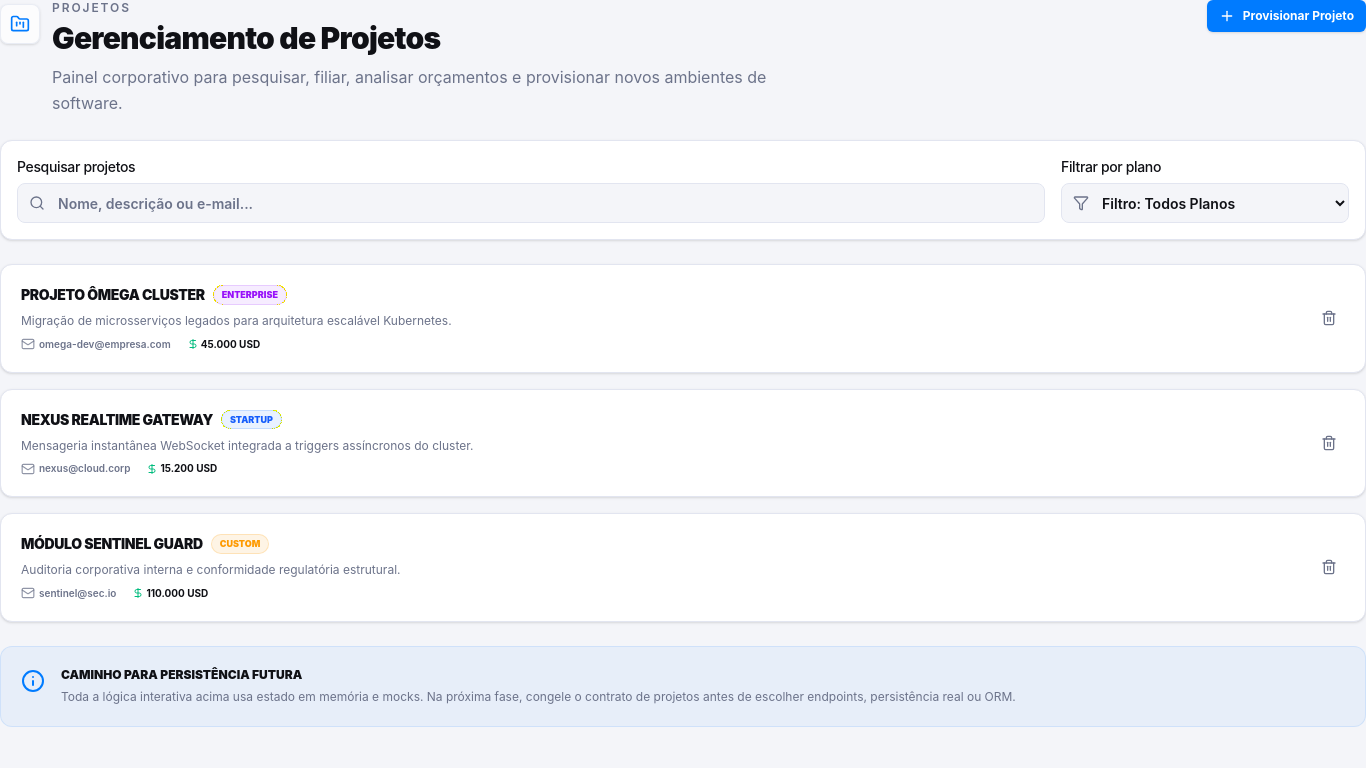
it: FormShowcase project form › creates a valid project through the mock store
Click the button "Provisionar Projeto" at (1286, 16), box [1207, 0, 1365, 32]
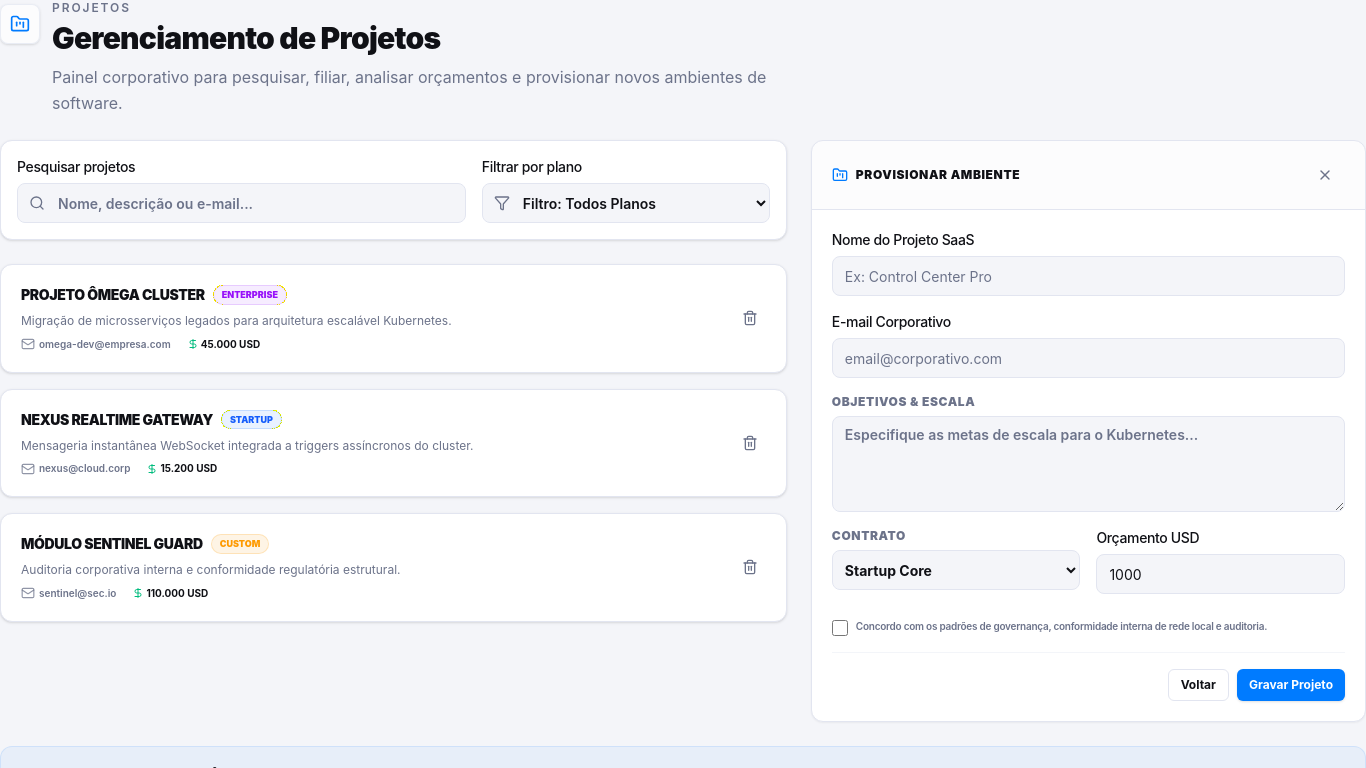
Type "Central de Métricas" into the field labelled "Nome do Projeto SaaS" at (1088, 276), box [832, 256, 1345, 296]
Type "metricas@starterkit.io" into the field labelled "E-mail Corporativo" at (1088, 358), box [832, 338, 1345, 378]
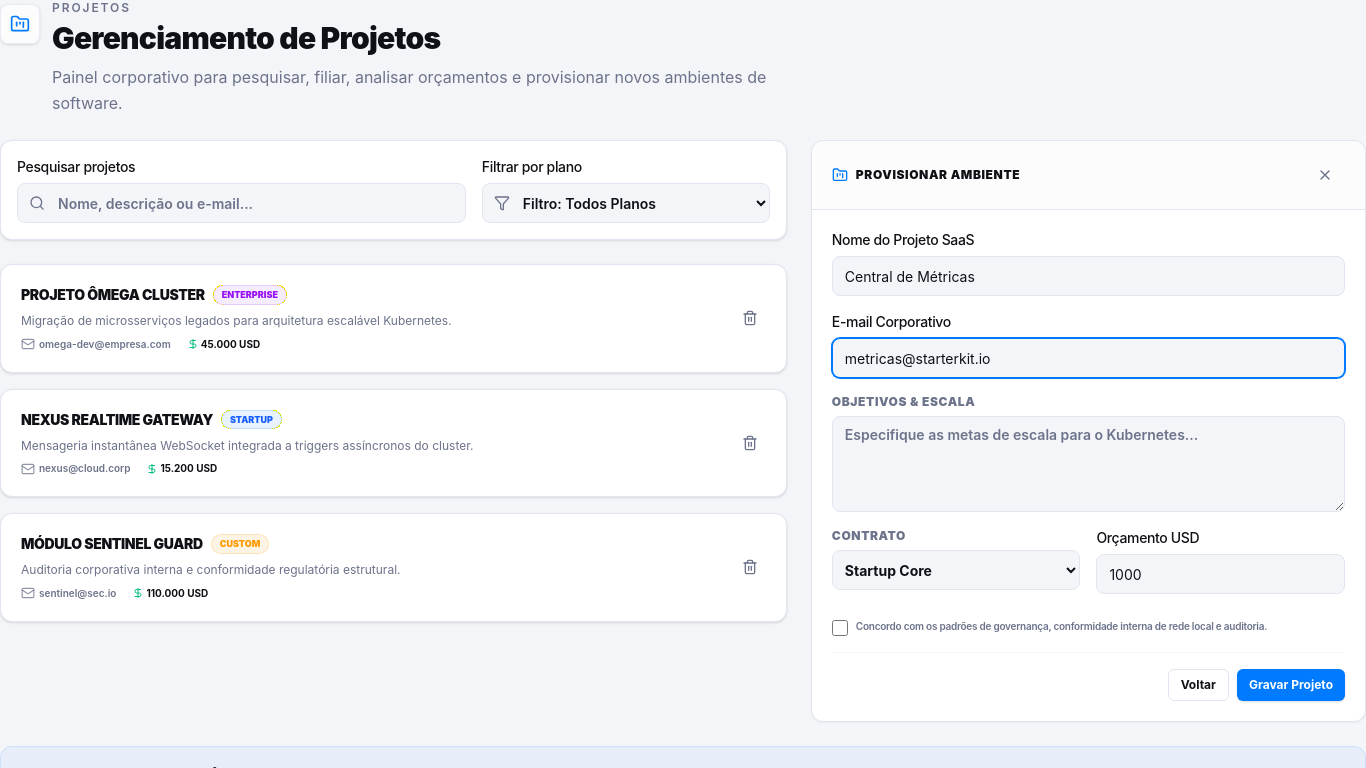
Type "Validar fluxo operacional do frontend antes do backend real." into the text box labelled "Objetivos & Escala" at (1088, 464), box [832, 416, 1345, 512]
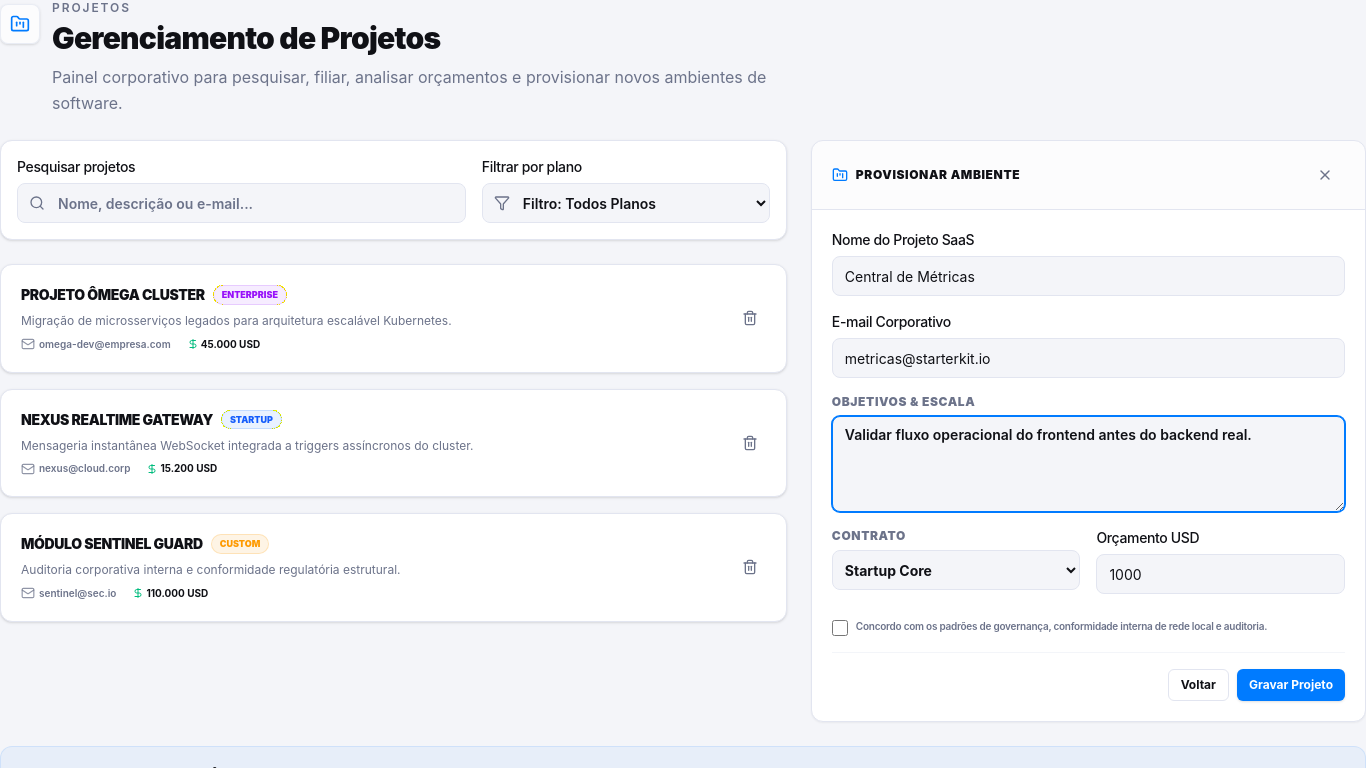
Replace the text in the number field labelled "Orçamento USD" with "3200" at (1221, 574), box [1096, 554, 1345, 594]
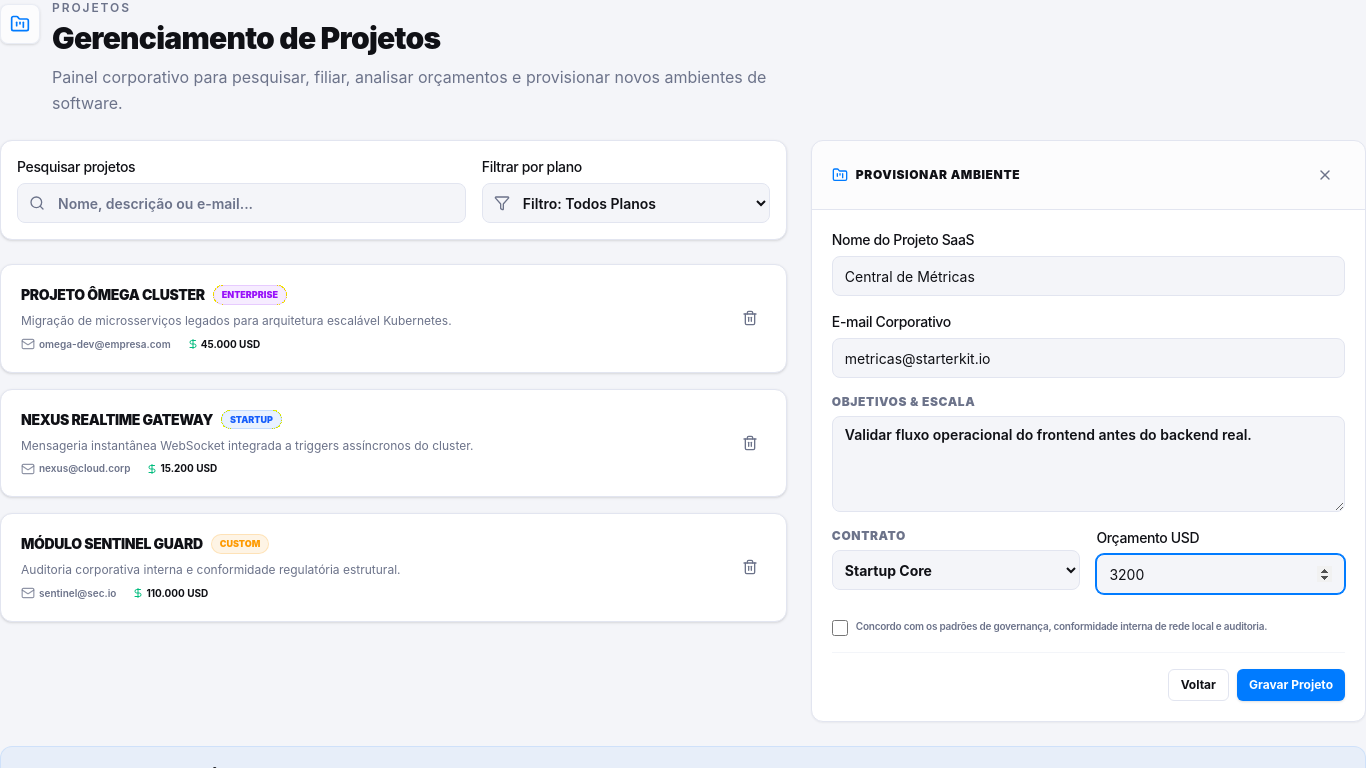
Click the checkbox labelled "governança" at (840, 628), box [832, 620, 848, 636]
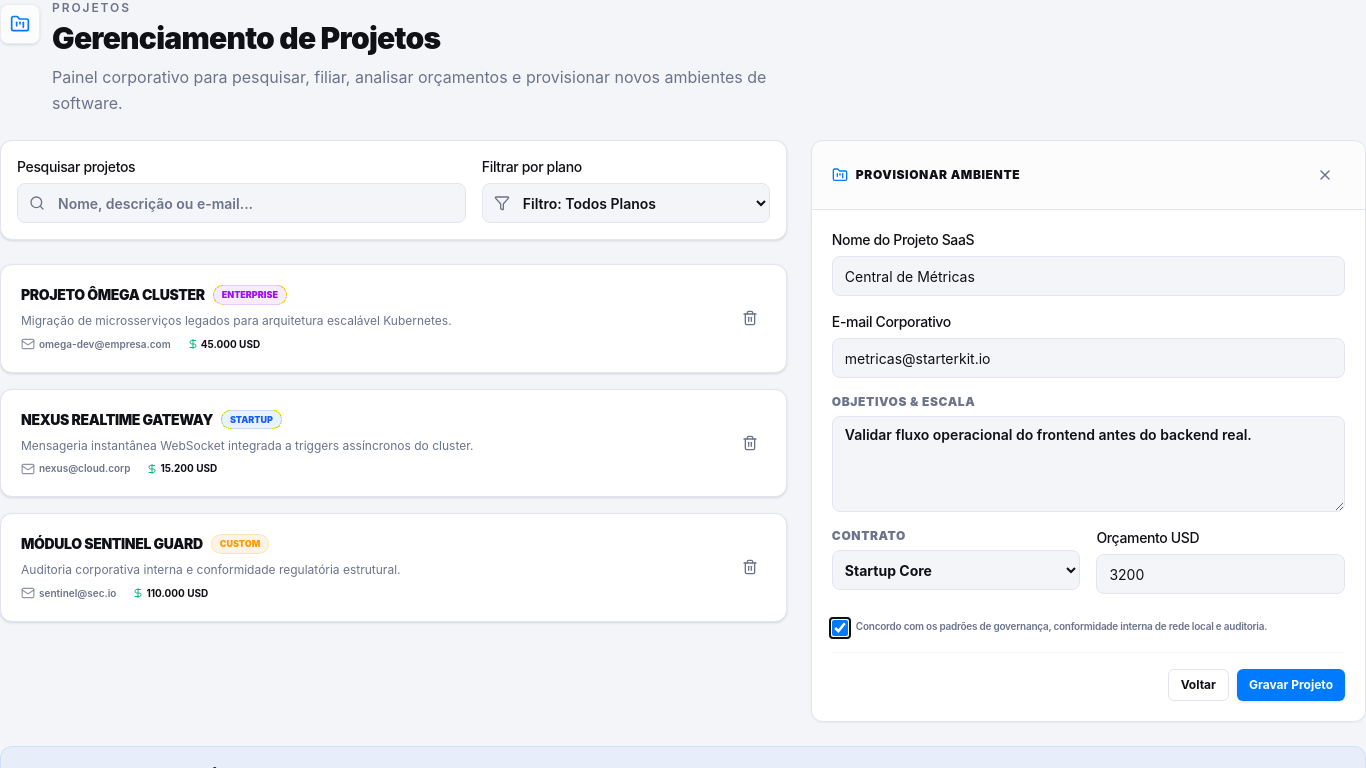
Click the button "Gravar Projeto" at (1291, 685), box [1237, 669, 1345, 701]
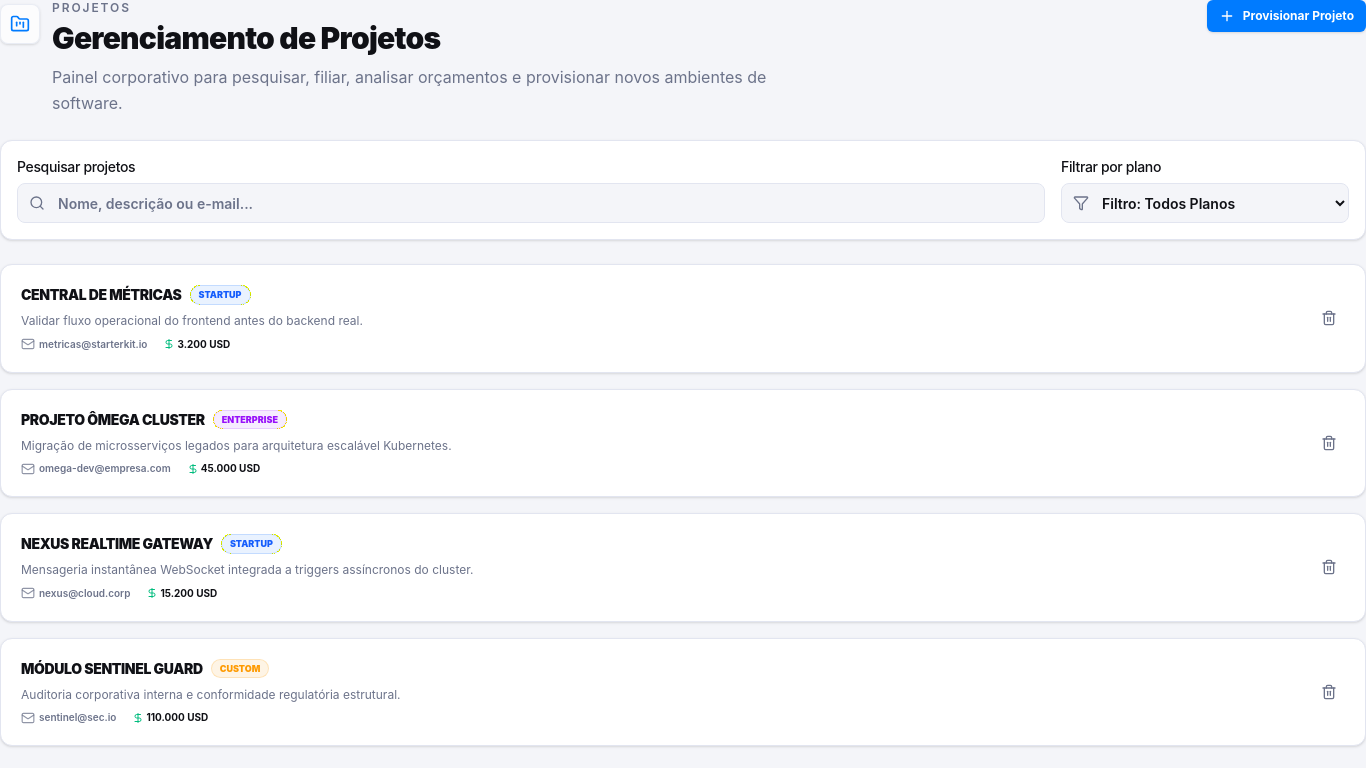
Now the button "Gravar Projeto" is gone
